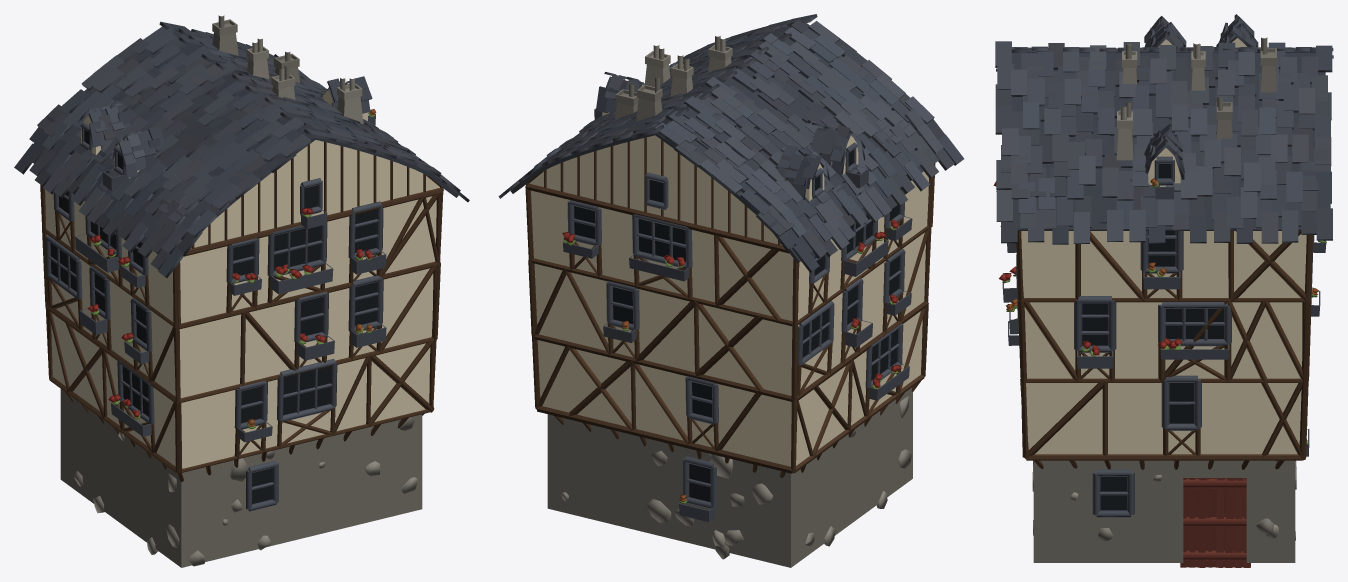
File: house_13.glb
The picture shows the model from 3 angles, left to right: view 1: azimuth 30°, elevation 25°; view 2: azimuth 150°, elevation 25°; view 3: azimuth 270°, elevation 25°; orthographic projection. The views are drawn at different scales.
Visible parts, largest first — view 1: house_13; view 2: house_13; view 3: house_13.
Part boxes in pixels (x1,y1,x2,y2): house_13: (14,15,469,567); house_13: (498,14,964,567); house_13: (993,14,1333,567).
Bounding box in the file's own units: 7.65 × 10.58 × 6.72.
